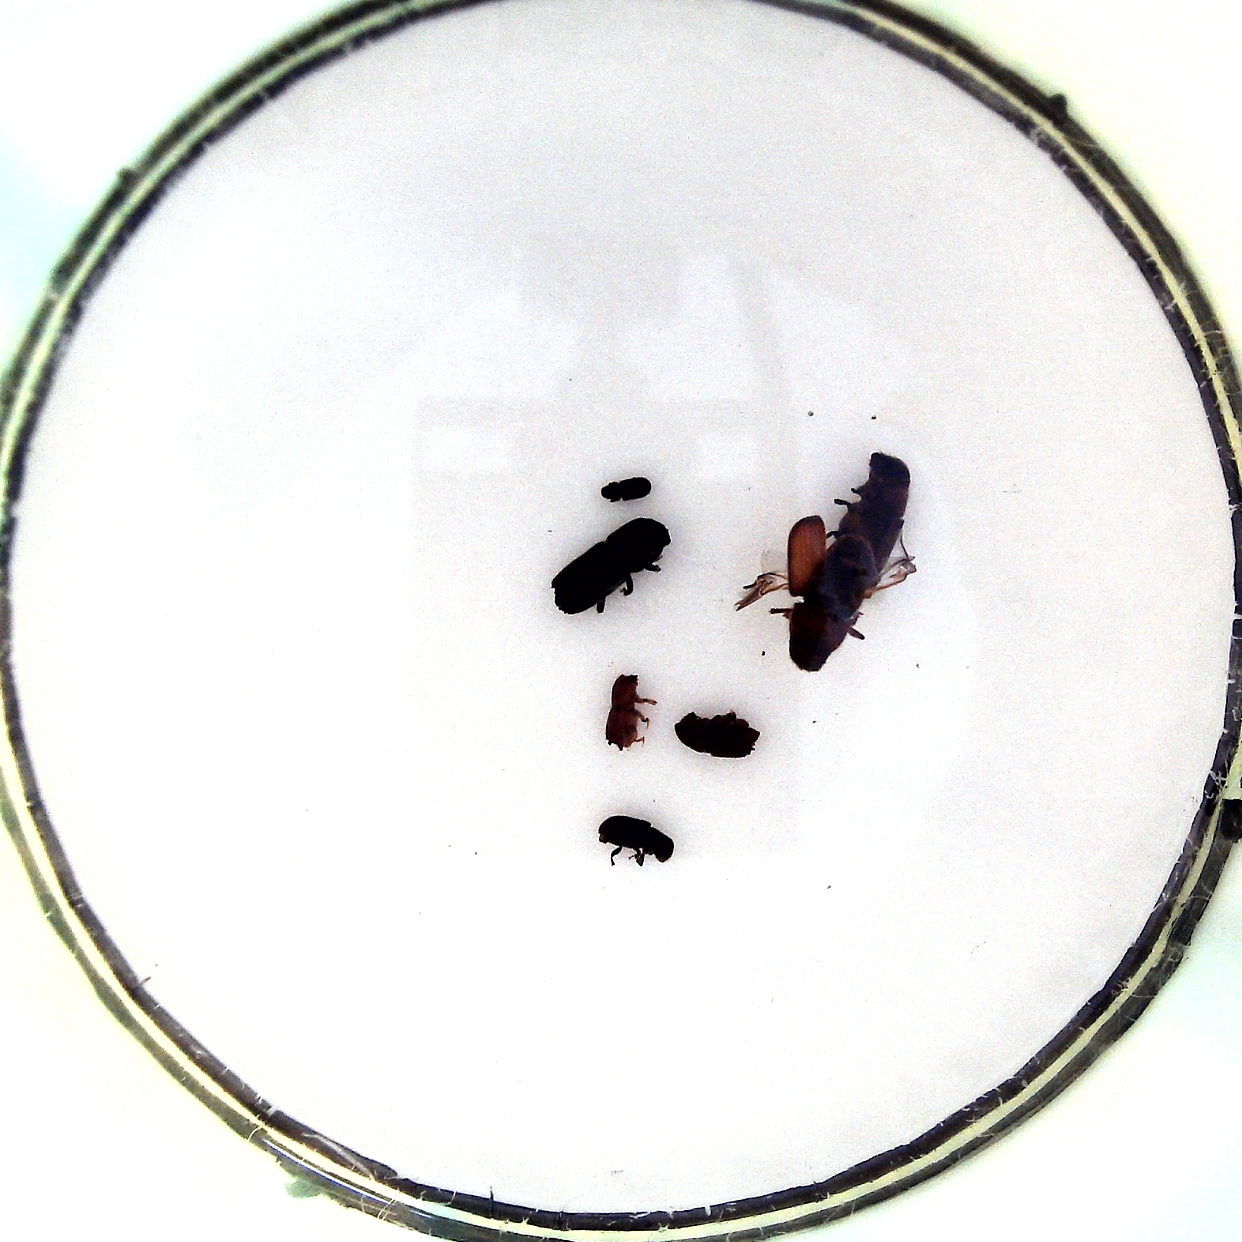Boerner: (540, 511, 680, 623)
Leconte: (736, 517, 900, 674), (831, 446, 918, 558)
Linnaeus: (674, 710, 765, 767)
acuminatus: (603, 672, 659, 756)
armandi: (599, 808, 679, 875)
coleoptera: (599, 471, 656, 511)
